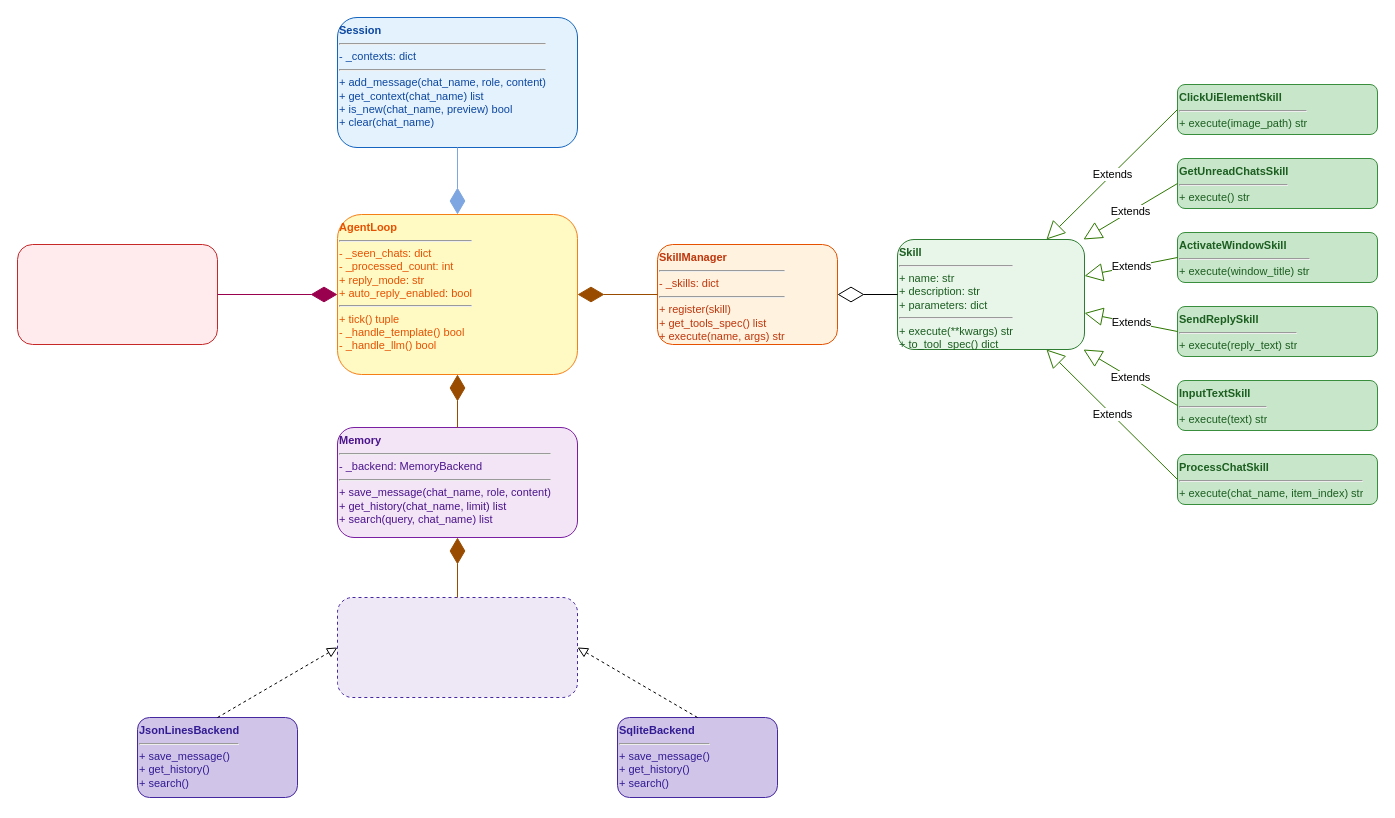
The diagram is 1395 pixels wide and 818 high, and some of its shapes have lost their labels. Each missing label, with the centre of its shape:
LLMClient - _available: bool - client: OpenAI + chat(messages, tools) dict: [117,294]
«abstract» MemoryBackend + save_message()* + get_history()* + search()*: [457,647]
